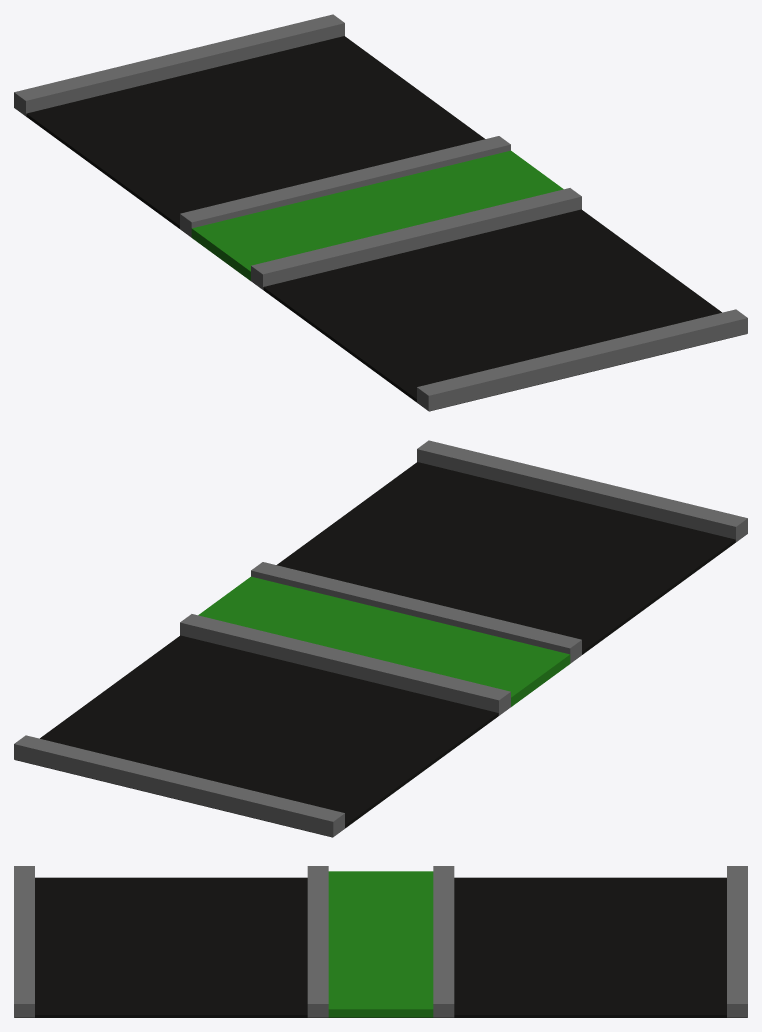
The model's file is Road_5.fbx.
The picture shows the model from 3 angles, top to bottom: view 1: azimuth 30°, elevation 25°; view 2: azimuth 150°, elevation 25°; view 3: azimuth 270°, elevation 25°; orthographic projection. The views are drawn at different scales.
Parts seen in each view (by area): view 1: Cube, Cube.005, Cube.001, Cube.003; view 2: Cube, Cube.005, Cube.001, Cube.003; view 3: Cube, Cube.005, Cube.003, Cube.001.
Part boxes in pixels (<box>): Cube: <box>26,36,746,411</box>; Cube.005: <box>191,150,563,280</box>; Cube.001: <box>14,14,747,411</box>; Cube.003: <box>180,136,581,289</box>; Cube: <box>15,462,735,837</box>; Cube.005: <box>198,576,570,706</box>; Cube.001: <box>14,440,747,837</box>; Cube.003: <box>180,562,581,715</box>; Cube: <box>14,877,747,1017</box>; Cube.005: <box>328,871,433,1017</box>; Cube.003: <box>307,866,454,1017</box>; Cube.001: <box>14,866,747,1017</box>.
Size of the model in its own units: 890 by 42.71 by 2003.
